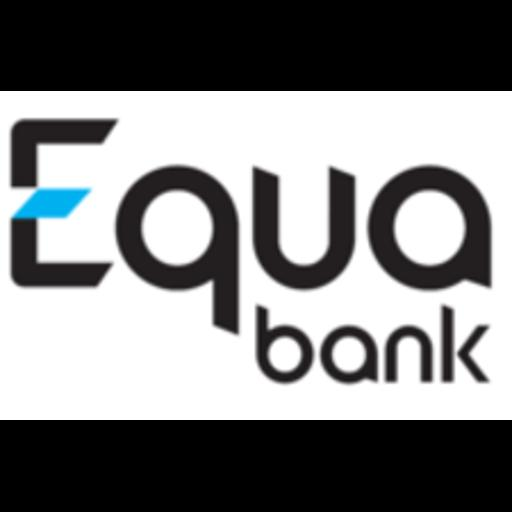Equa bank: (0, 91, 512, 420)
